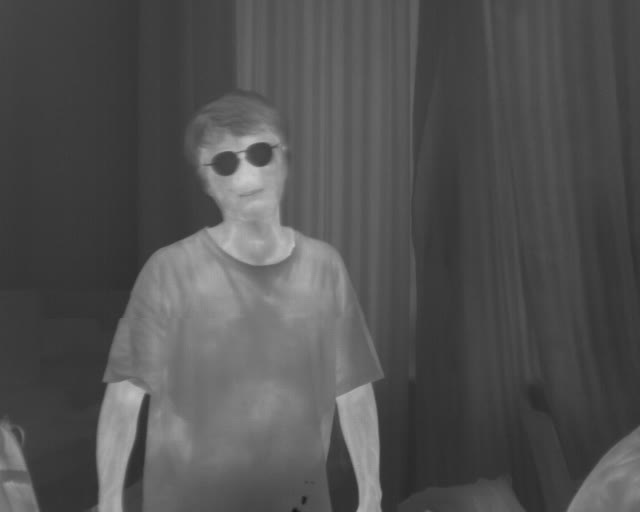face: (183, 88, 292, 224)
